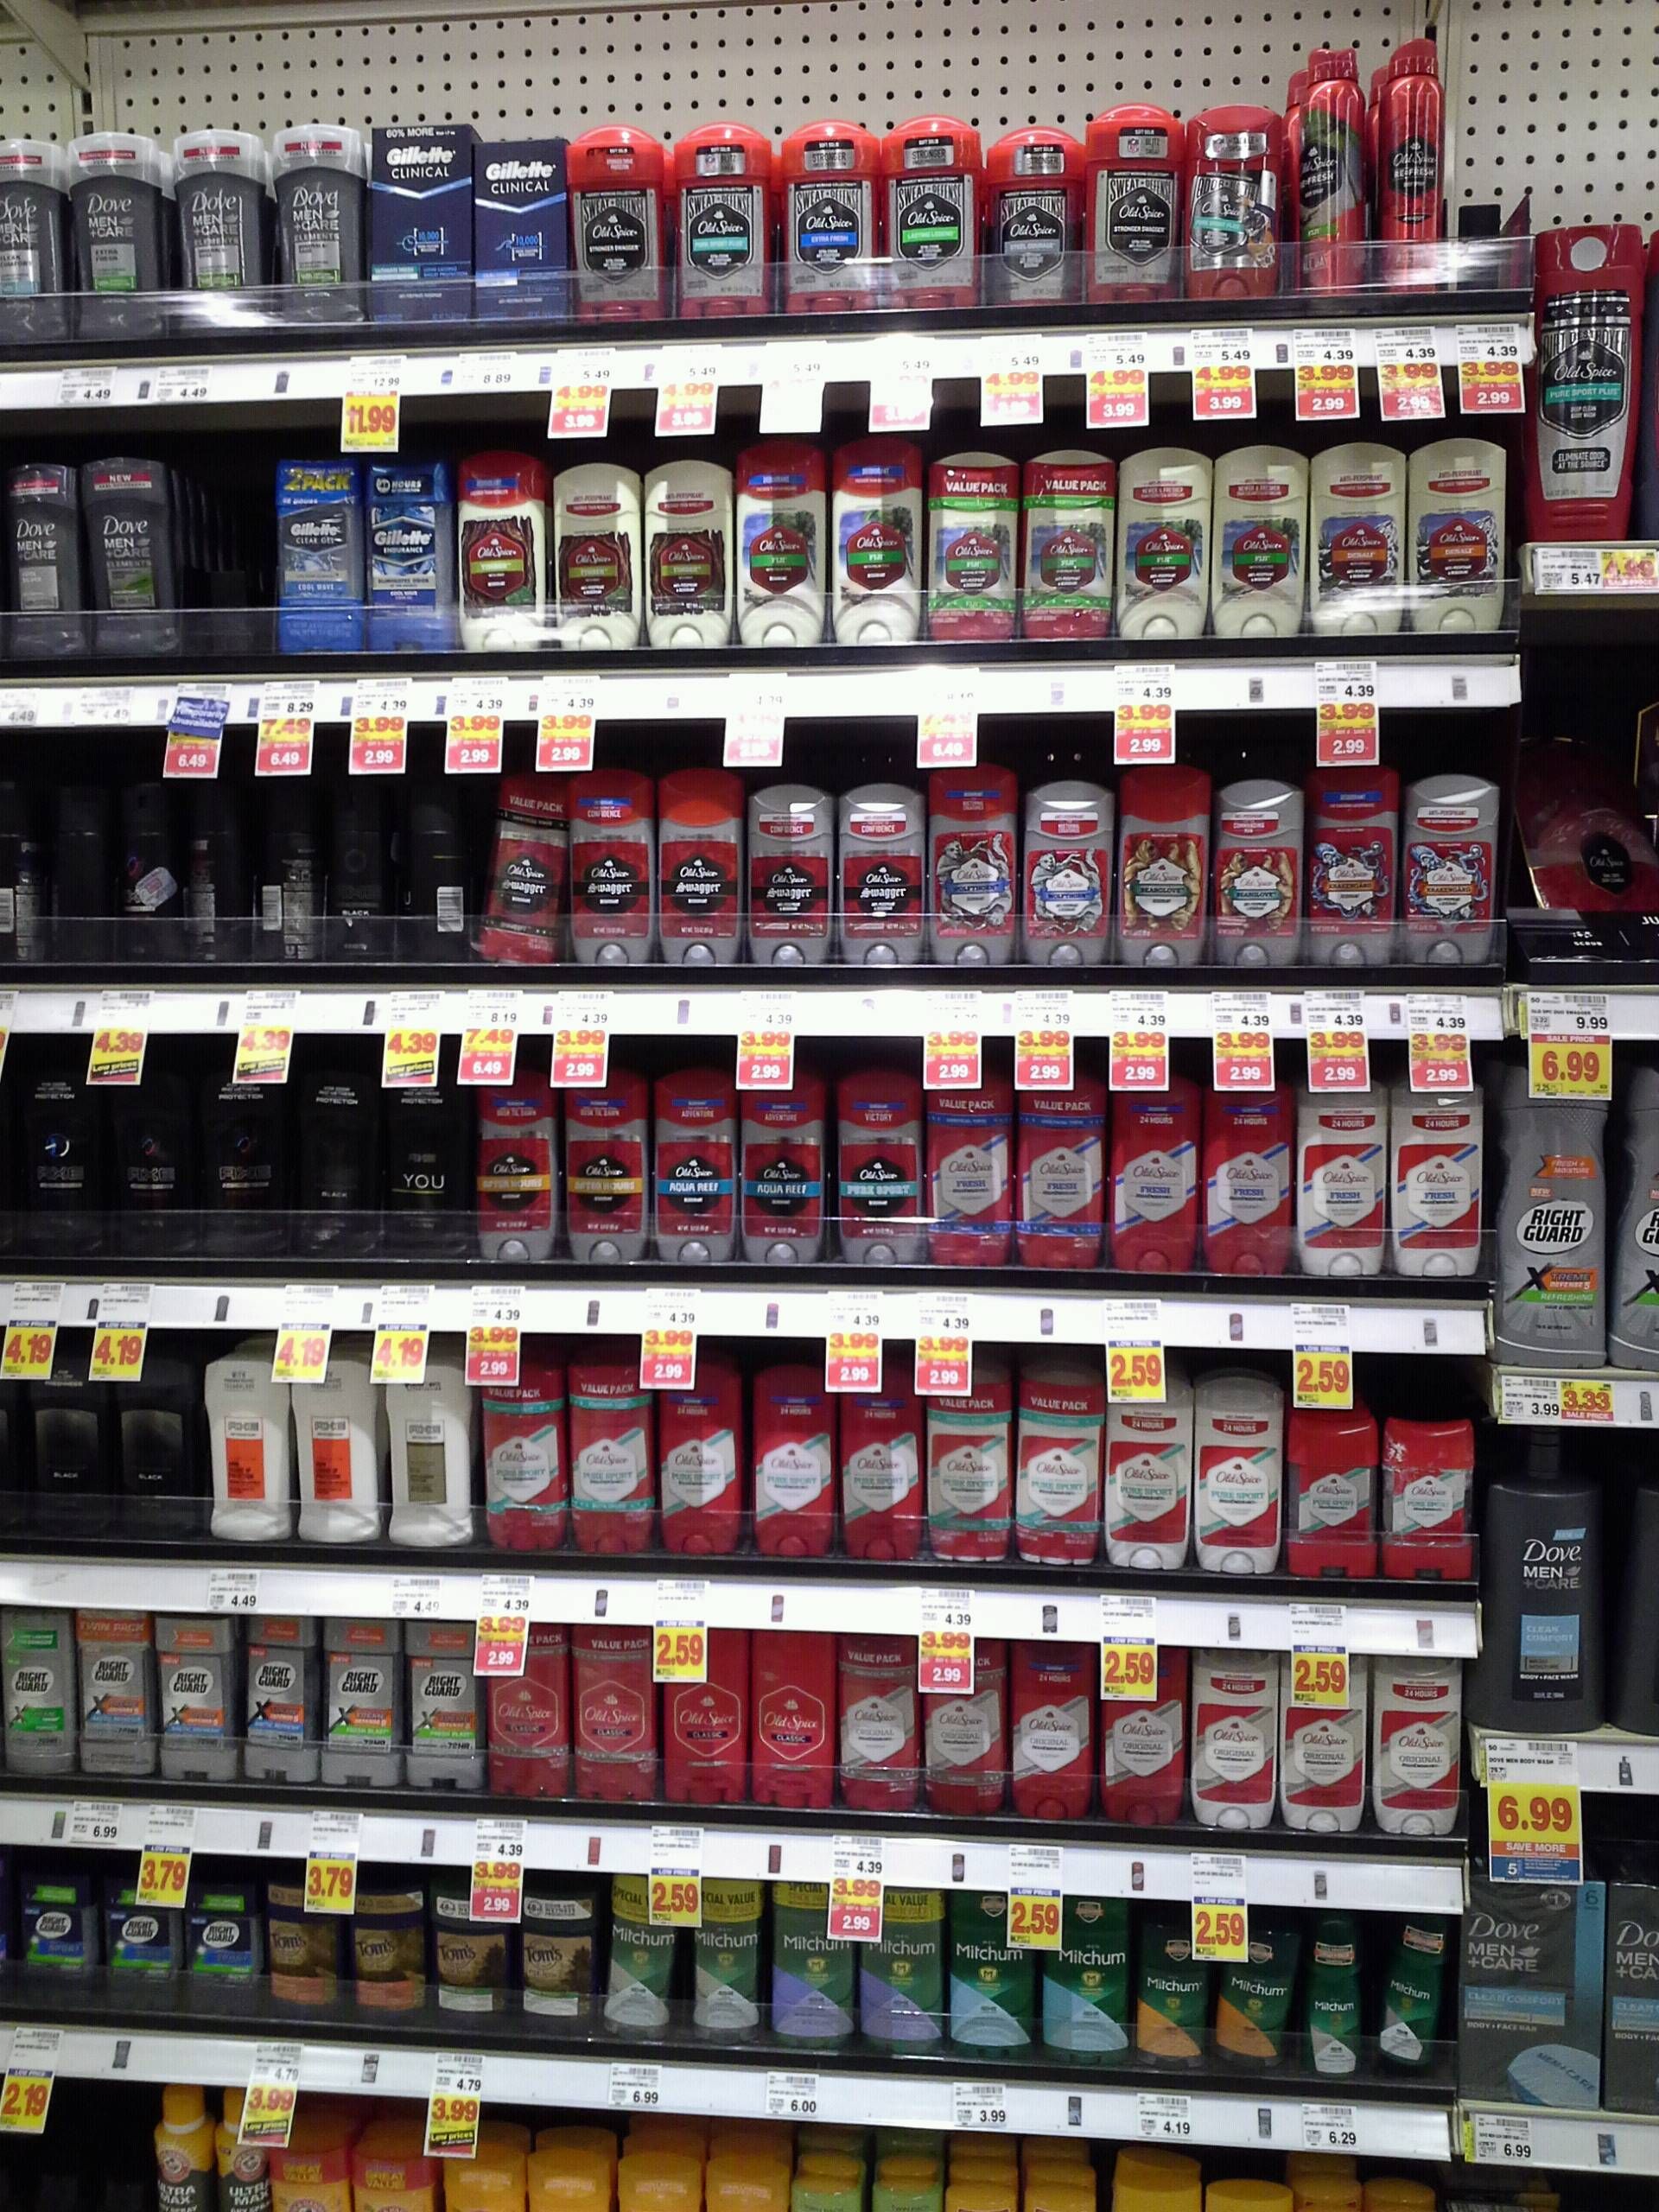Out-of-stock: (185, 432, 277, 658)
